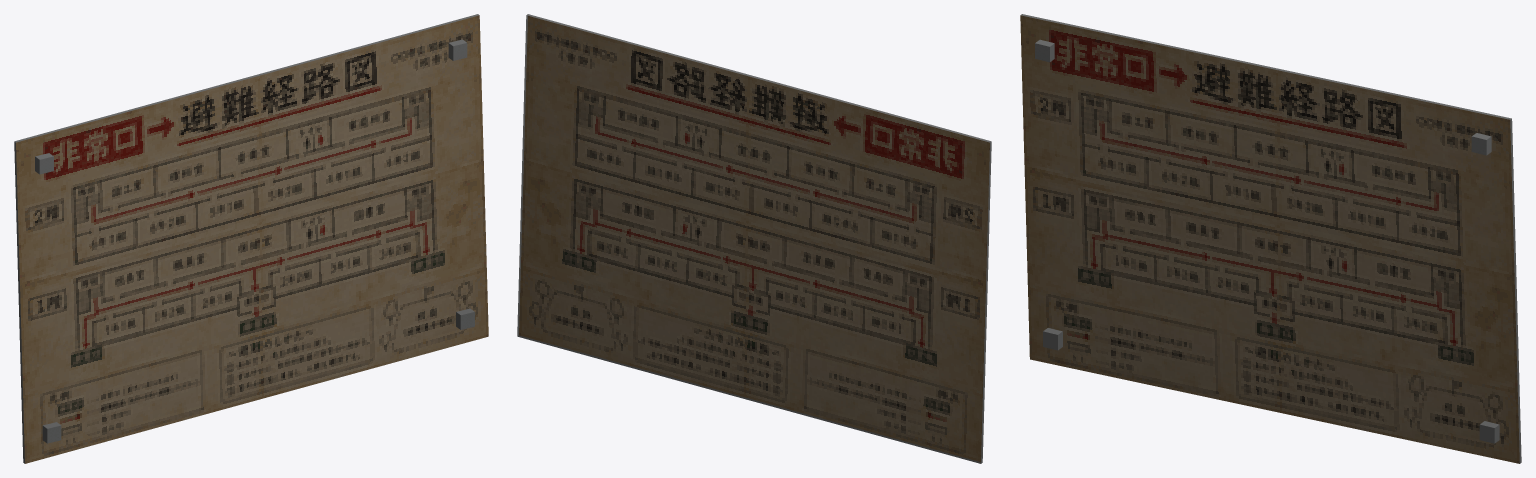
Rendered from prop_poster-hinan-4.glb.
3 views of the same model, side by side, from view 1: azimuth 30°, elevation 25°; view 2: azimuth 150°, elevation 25°; view 3: azimuth 330°, elevation 25° (orthographic). The views are drawn at different scales.
Parts seen in each view (by area): view 1: prop_poster-hinan-4; view 2: prop_poster-hinan-4; view 3: prop_poster-hinan-4.
Part boxes in pixels (x1,y1,x2,y2): prop_poster-hinan-4: (14, 14, 488, 463); prop_poster-hinan-4: (517, 14, 991, 463); prop_poster-hinan-4: (1020, 14, 1521, 463).
Size of the model in its own units: 0.4696 by 0.3206 by 0.0115.
Materials: 2 (2 with a texture image).
